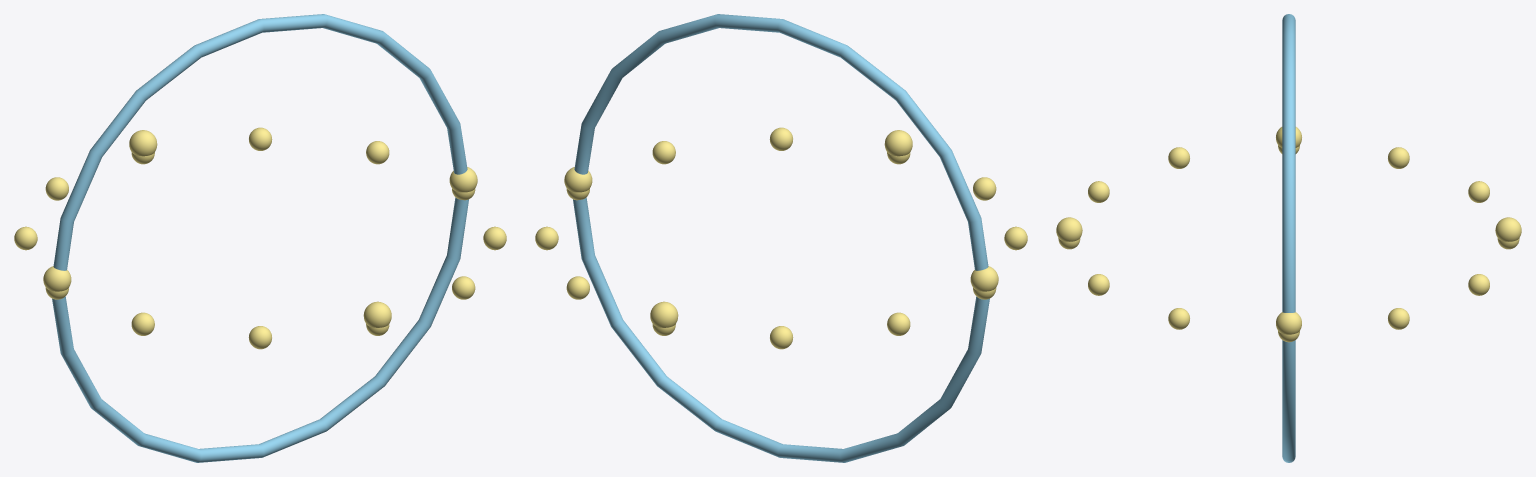
File: unit-circle.glb
3 renders of one model, left to right at view 1: azimuth 30°, elevation 25°; view 2: azimuth 150°, elevation 25°; view 3: azimuth 270°, elevation 25°, orthographic. The views are drawn at different scales.
Visible parts, largest first — view 1: unit_circle, quadrant_marker_1, quadrant_marker_3, quadrant_marker_2, quadrant_marker_4; view 2: unit_circle, quadrant_marker_3, quadrant_marker_1, quadrant_marker_2, quadrant_marker_4; view 3: unit_circle, quadrant_marker_1, quadrant_marker_3, quadrant_marker_4.
Boxes of the visible parts, x1=… form: unit_circle: x1=52, y1=14, x2=468, y2=462; quadrant_marker_1: x1=363, y1=301, x2=391, y2=327; quadrant_marker_3: x1=129, y1=130, x2=157, y2=156; quadrant_marker_2: x1=43, y1=266, x2=71, y2=291; quadrant_marker_4: x1=449, y1=167, x2=477, y2=192; unit_circle: x1=573, y1=14, x2=989, y2=462; quadrant_marker_3: x1=650, y1=301, x2=678, y2=327; quadrant_marker_1: x1=884, y1=130, x2=912, y2=156; quadrant_marker_2: x1=970, y1=266, x2=998, y2=291; quadrant_marker_4: x1=564, y1=167, x2=592, y2=192; unit_circle: x1=1282, y1=14, x2=1295, y2=462; quadrant_marker_1: x1=1056, y1=217, x2=1082, y2=241; quadrant_marker_3: x1=1495, y1=217, x2=1521, y2=241; quadrant_marker_4: x1=1276, y1=312, x2=1301, y2=334.
Bounding box in the file's own units: 1.17 × 1.13 × 1.17.
